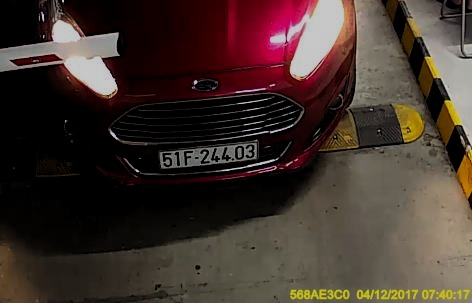plate: (156, 140, 262, 169)
